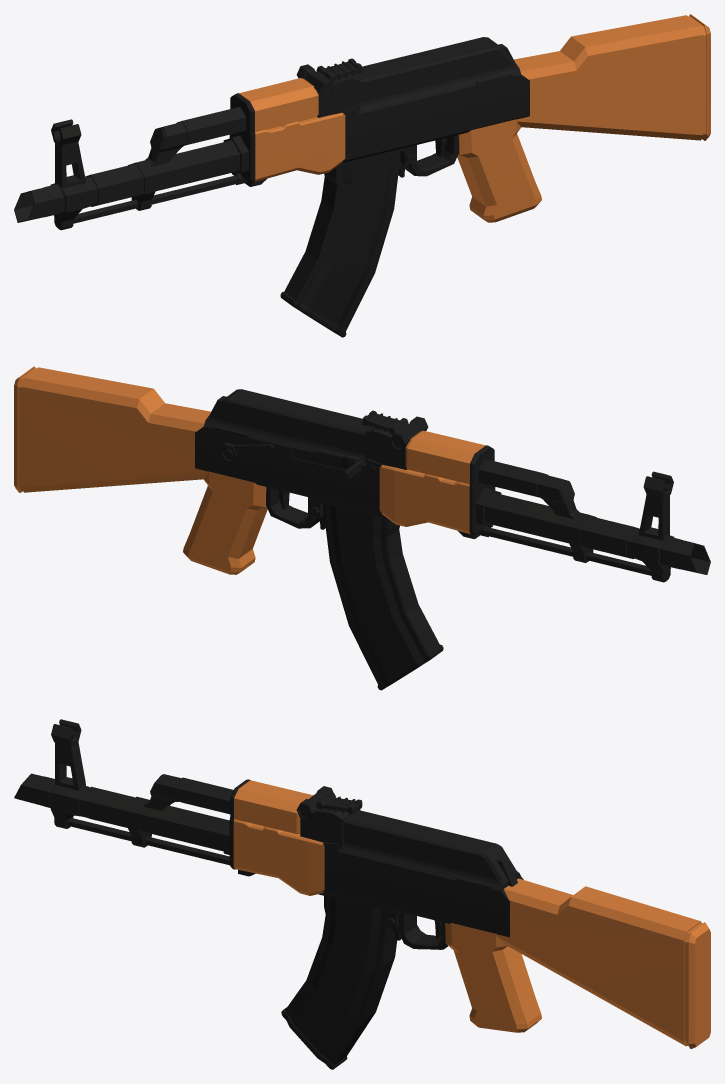
Rendered from gun_4.fbx.
3 views of the same model, one above another, from view 1: azimuth 30°, elevation 25°; view 2: azimuth 150°, elevation 25°; view 3: azimuth 330°, elevation 25° (orthographic).
Parts seen in each view (by area): view 1: 4; view 2: 4; view 3: 4.
Part boxes in pixels (left/top/right/bottom): 4: left=14, top=14, right=710, bottom=337; 4: left=14, top=366, right=710, bottom=690; 4: left=14, top=719, right=710, bottom=1069.
Bounding box in the file's own units: 116 × 44.52 × 10.33.
